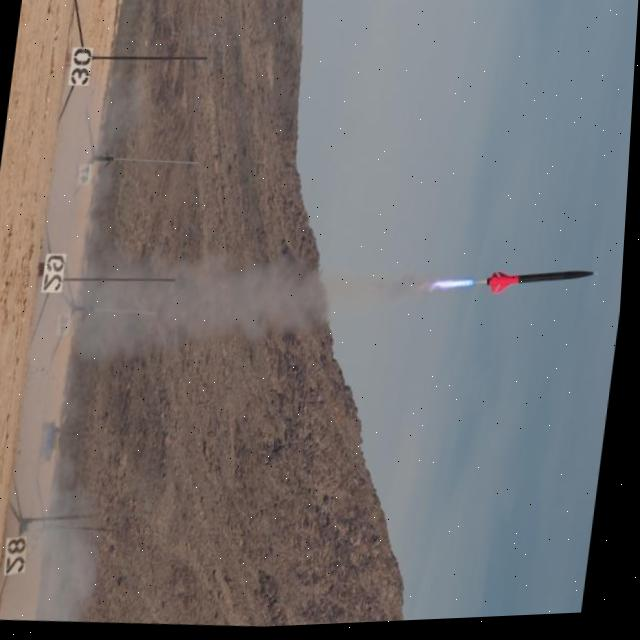missile: (480, 263, 603, 307)
